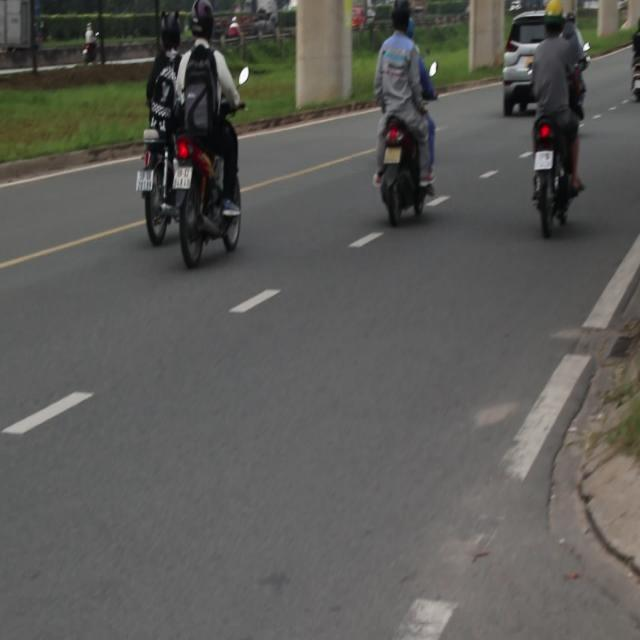car: (492, 16, 581, 104)
motorbike: (173, 144, 250, 266), (376, 118, 435, 228), (530, 117, 578, 239), (144, 129, 181, 245), (77, 13, 118, 72)
